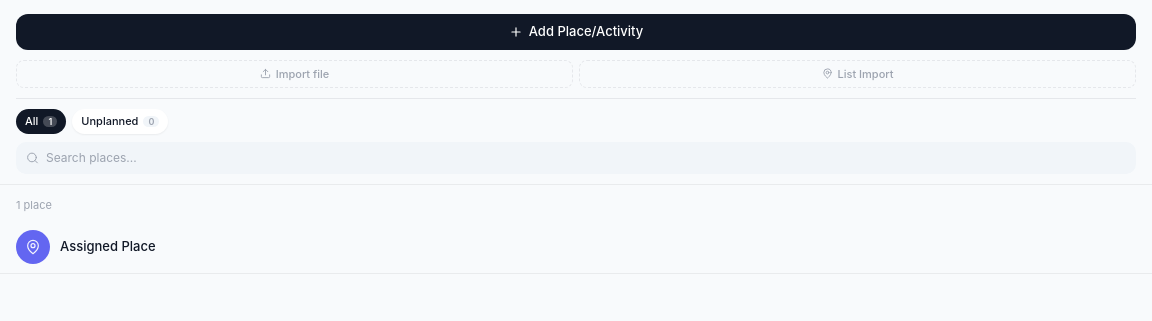
Test: Filter tabs › FE-PLANNER-SIDEBAR-019: unplanned empty state shows "All places are planned"
Click the button "Unplanned 0". click: x=120, y=121
box: [72,109,168,134]
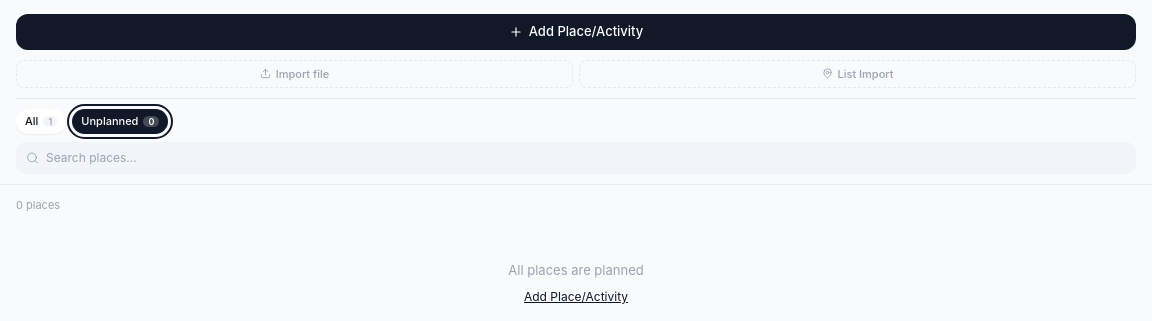
Expected: the text "All places are planned" is shown, [508,260,644,280]
